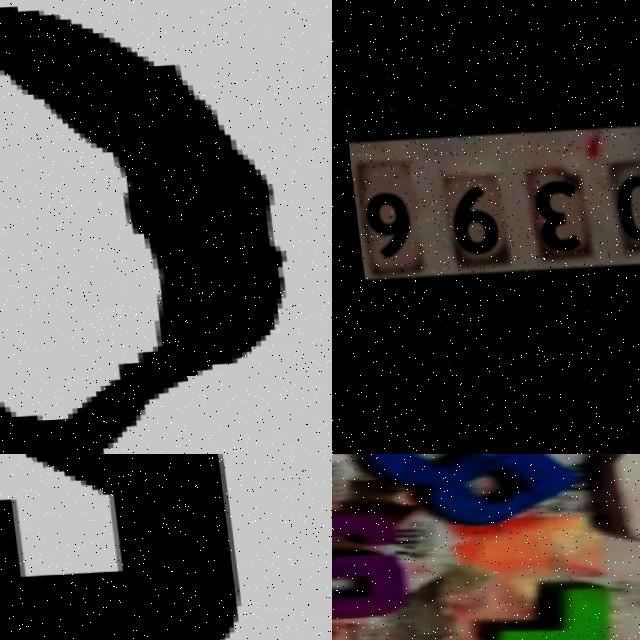0: (586, 154, 640, 264)
3: (506, 161, 607, 275)
6: (346, 164, 440, 286)
9: (421, 166, 523, 278)
B: (353, 454, 580, 532)
F: (444, 584, 604, 640)
S: (0, 454, 247, 640), (332, 508, 404, 622)
